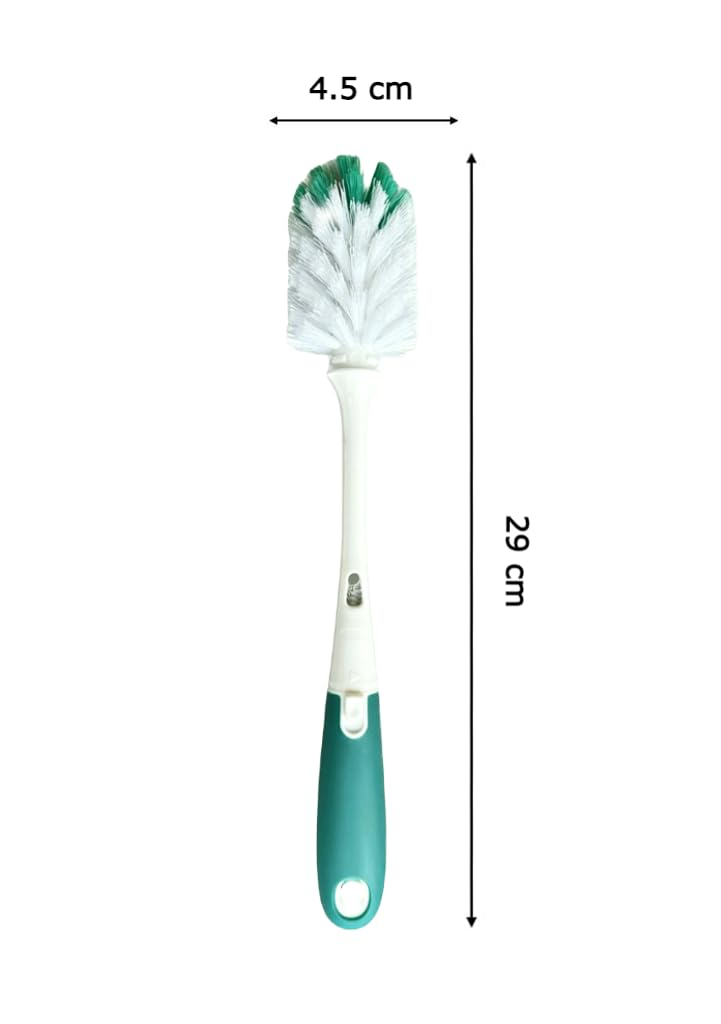6Z: (505, 516, 530, 551)
